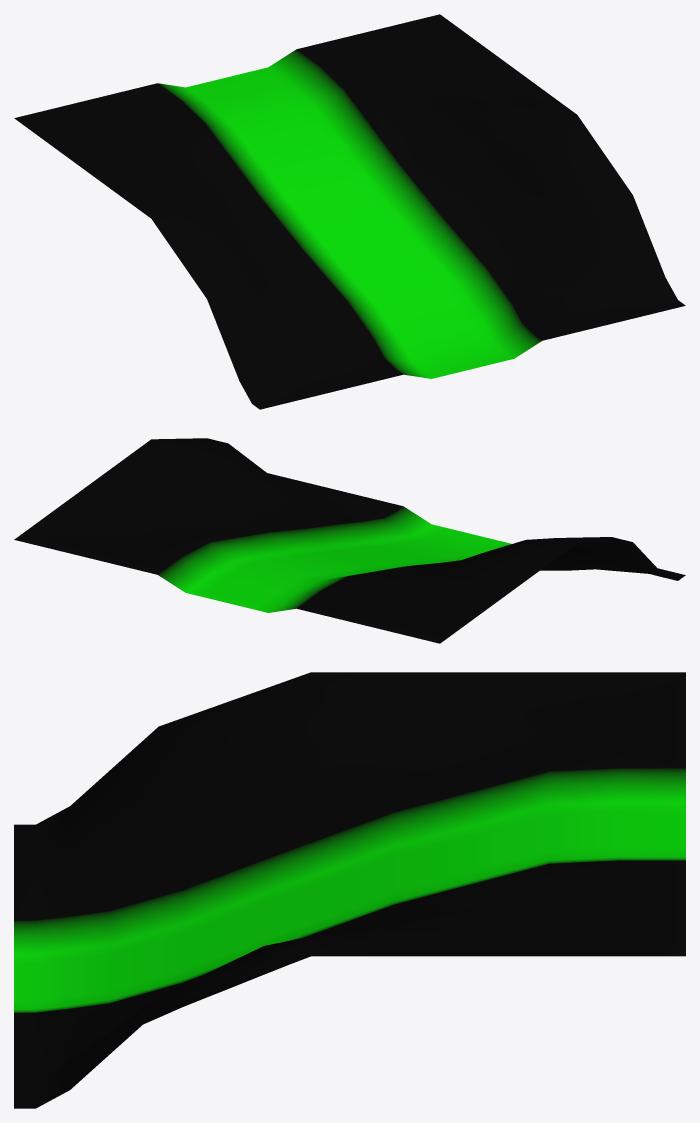
File: SM_Ground_8m_HillSmallPathway.FBX
3 renders of one model, top to bottom at view 1: azimuth 30°, elevation 25°; view 2: azimuth 150°, elevation 25°; view 3: azimuth 270°, elevation 25°, orthographic. The views are drawn at different scales.
Parts seen in each view (by area): view 1: SM_Ground_8m_HillSmallPathway; view 2: SM_Ground_8m_HillSmallPathway; view 3: SM_Ground_8m_HillSmallPathway.
Boxes of the visible parts, x1,y1,x2,y2 form: SM_Ground_8m_HillSmallPathway: [14, 14, 685, 409]; SM_Ground_8m_HillSmallPathway: [14, 438, 685, 643]; SM_Ground_8m_HillSmallPathway: [14, 672, 685, 1108].
Bounding box in the file's own units: 800 × 800 × 220.
